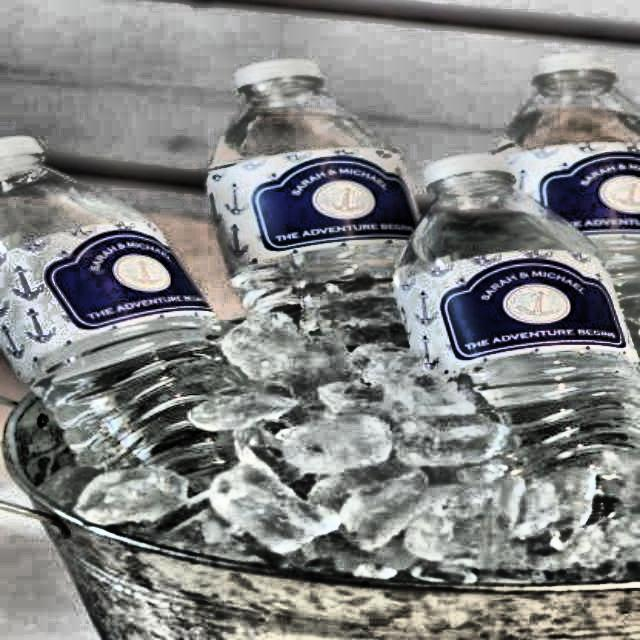Bottles: (388, 132, 640, 522), (0, 130, 264, 468), (205, 56, 416, 354)
